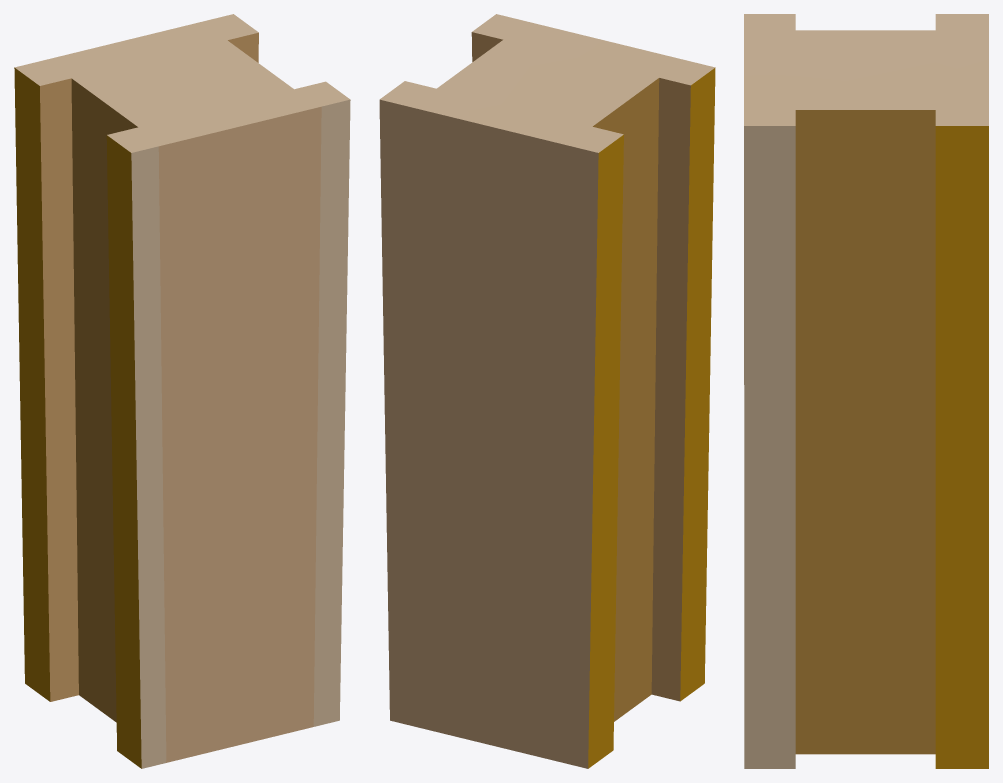
The model's file is TrackPostBeam_4.glb.
3 views of the same model, side by side, from view 1: azimuth 30°, elevation 25°; view 2: azimuth 150°, elevation 25°; view 3: azimuth 270°, elevation 25° (orthographic). The views are drawn at different scales.
Parts seen in each view (by area): view 1: TrackPostBeam; view 2: TrackPostBeam; view 3: TrackPostBeam.
Part boxes in pixels (box(x1,y1,x2,y2)): TrackPostBeam: box(14, 14, 350, 768); TrackPostBeam: box(379, 14, 715, 768); TrackPostBeam: box(744, 14, 988, 768).
Size of the model in its own units: 0.3517 by 0.9487 by 0.3249.
